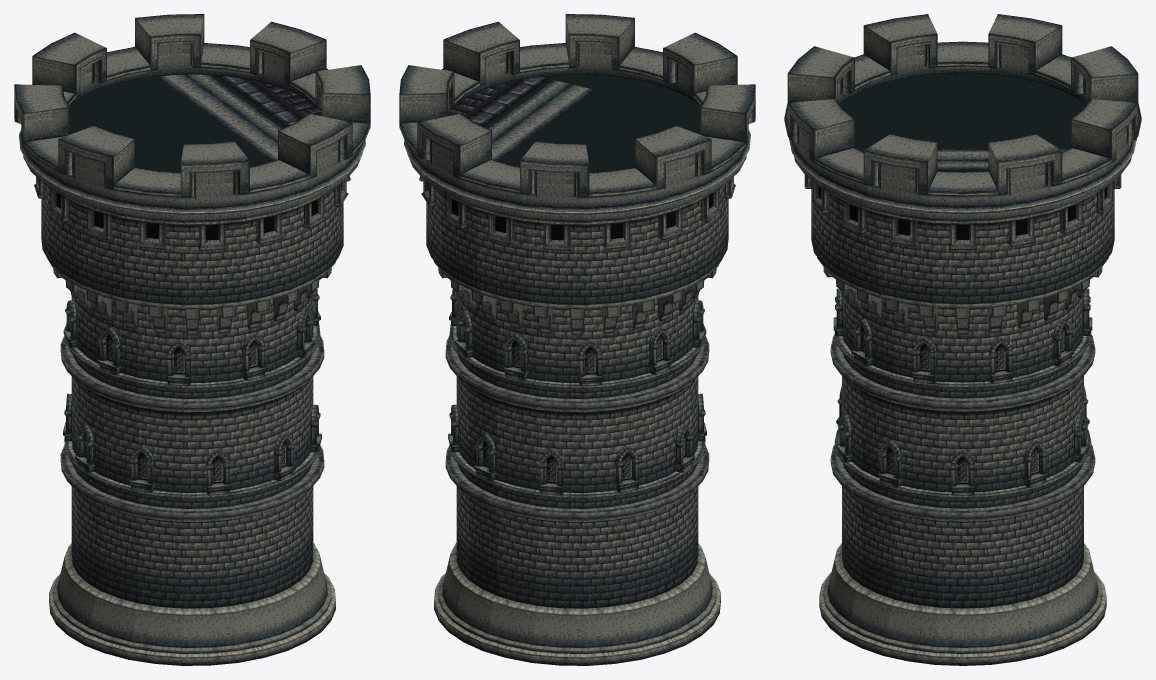
The model's file is EnvBdgMD_Castle_Rain_A_Tower_B.FBX.
3 renders of one model, left to right at view 1: azimuth 30°, elevation 25°; view 2: azimuth 150°, elevation 25°; view 3: azimuth 270°, elevation 25°, orthographic.
Parts seen in each view (by area): view 1: EnvBdgMD_Castle_Rain_A_Tower_B; view 2: EnvBdgMD_Castle_Rain_A_Tower_B; view 3: EnvBdgMD_Castle_Rain_A_Tower_B.
Boxes of the visible parts, <box> form: EnvBdgMD_Castle_Rain_A_Tower_B: <box>14,14,370,665</box>; EnvBdgMD_Castle_Rain_A_Tower_B: <box>399,14,755,665</box>; EnvBdgMD_Castle_Rain_A_Tower_B: <box>784,14,1141,665</box>.
Bounding box in the file's own units: 1117 × 1785 × 1117.
